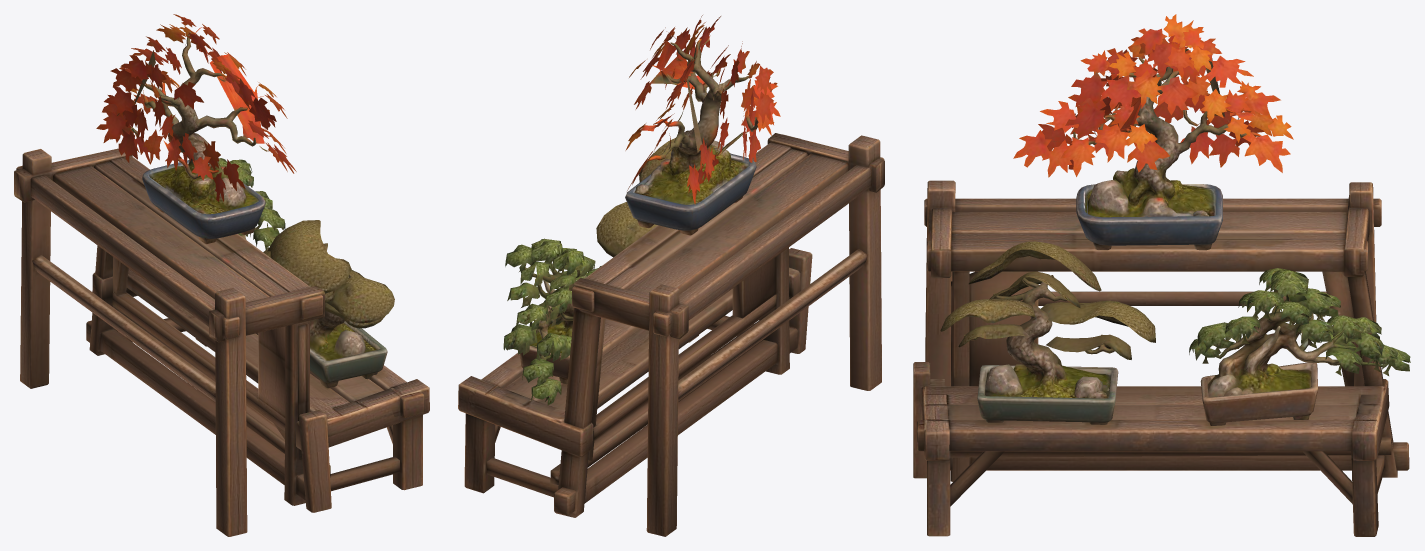
The model's file is bonsai_shelf.glb.
3 renders of one model, left to right at view 1: azimuth 30°, elevation 25°; view 2: azimuth 150°, elevation 25°; view 3: azimuth 270°, elevation 25°, orthographic. The views are drawn at different scales.
Parts seen in each view (by area): view 1: tripo_node_5013bbd4-cb7a-44e1-81ac-435aeccd95e7; view 2: tripo_node_5013bbd4-cb7a-44e1-81ac-435aeccd95e7; view 3: tripo_node_5013bbd4-cb7a-44e1-81ac-435aeccd95e7.
Boxes of the visible parts, left/top/right/bottom form: tripo_node_5013bbd4-cb7a-44e1-81ac-435aeccd95e7: left=14, top=14, right=429, bottom=536; tripo_node_5013bbd4-cb7a-44e1-81ac-435aeccd95e7: left=458, top=15, right=884, bottom=536; tripo_node_5013bbd4-cb7a-44e1-81ac-435aeccd95e7: left=913, top=14, right=1410, bottom=536.
Bounding box in the file's own units: 0.5327 × 0.9995 × 0.9995.
1 material, 1 textured.
